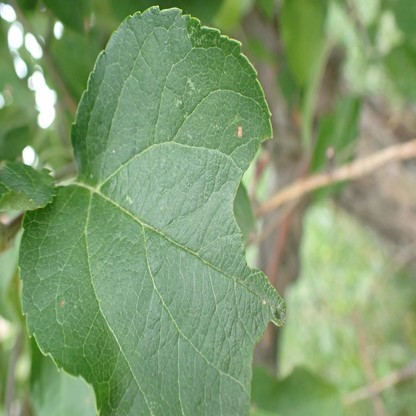frogeye_leaf_spot: (236, 126, 243, 136)
